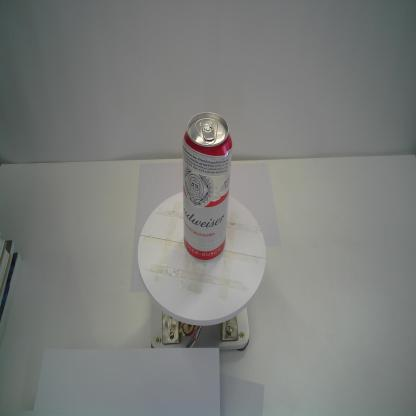Alcohol: (182, 112, 233, 261)
